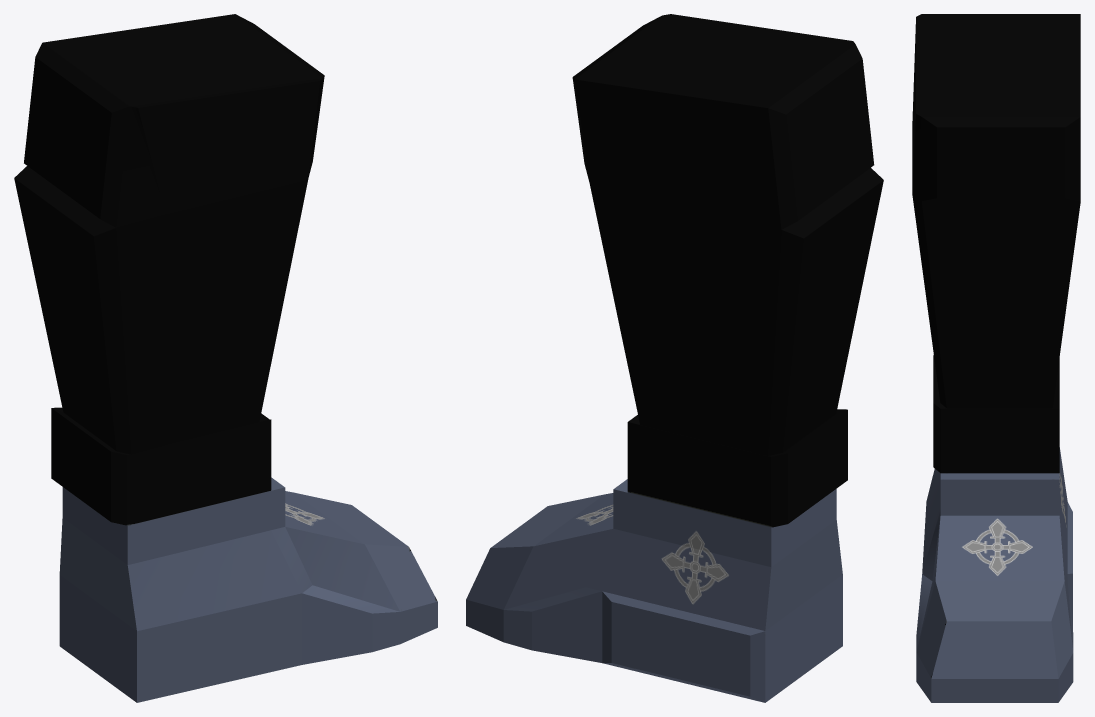
Rendered from rightfoot.obj.
The picture shows the model from 3 angles, left to right: view 1: azimuth 30°, elevation 25°; view 2: azimuth 150°, elevation 25°; view 3: azimuth 270°, elevation 25°; orthographic projection. The views are drawn at different scales.
Visible parts, largest first — view 1: rightleg1:pCube8 rightleg1:pCube9 rightleg1:polySurface1; view 2: rightleg1:pCube8 rightleg1:pCube9 rightleg1:polySurface1; view 3: rightleg1:pCube8 rightleg1:pCube9 rightleg1:polySurface1.
Part boxes in pixels (x1,y1,x2,y2): rightleg1:pCube8 rightleg1:pCube9 rightleg1:polySurface1: [14, 14, 437, 702]; rightleg1:pCube8 rightleg1:pCube9 rightleg1:polySurface1: [466, 14, 883, 702]; rightleg1:pCube8 rightleg1:pCube9 rightleg1:polySurface1: [912, 14, 1080, 702].
Size of the model in its own units: 0.9872 by 1.64 by 0.4571.
1 material, 1 textured.
